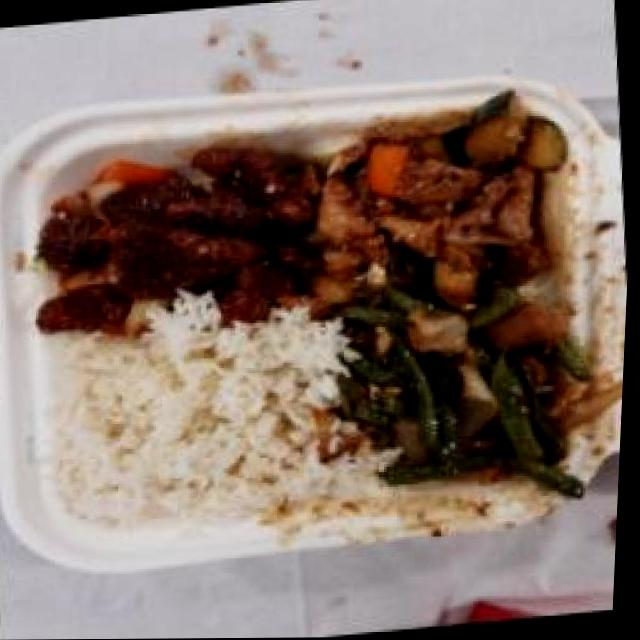Beijing Beef: (23, 123, 331, 335)
Kung Pao Chicken: (297, 92, 590, 316)
String Bean Chicken Breast: (333, 276, 613, 496)
White Steamed Rice: (46, 308, 334, 540)
